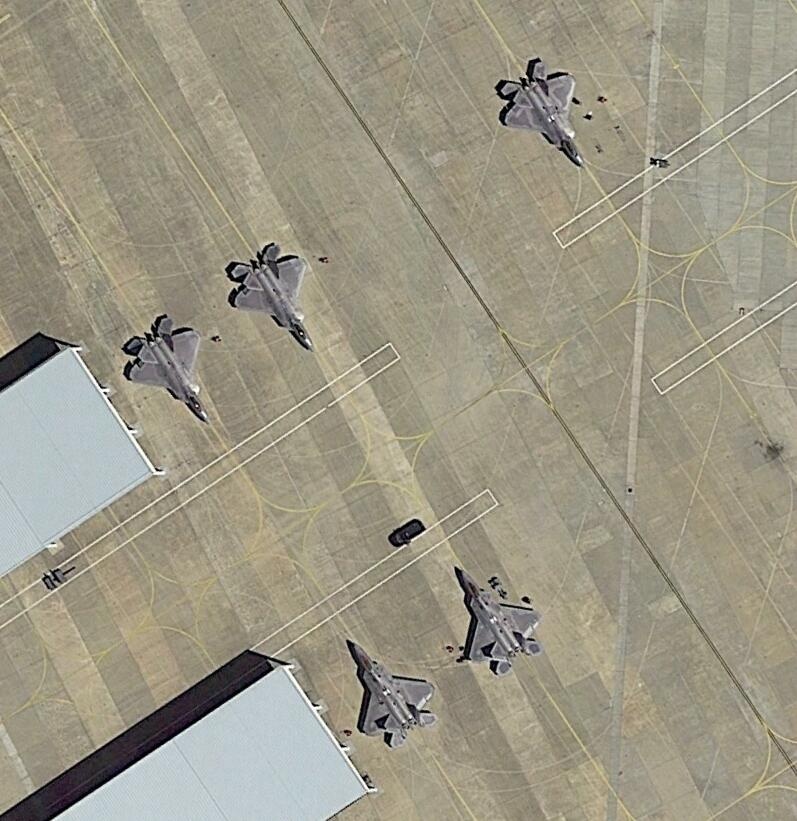A15: (344, 637, 439, 750), (498, 57, 588, 171), (227, 240, 317, 354), (454, 565, 543, 679), (122, 313, 212, 425)
